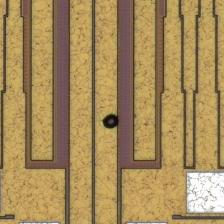PARTICLE: (100, 111, 123, 133)
